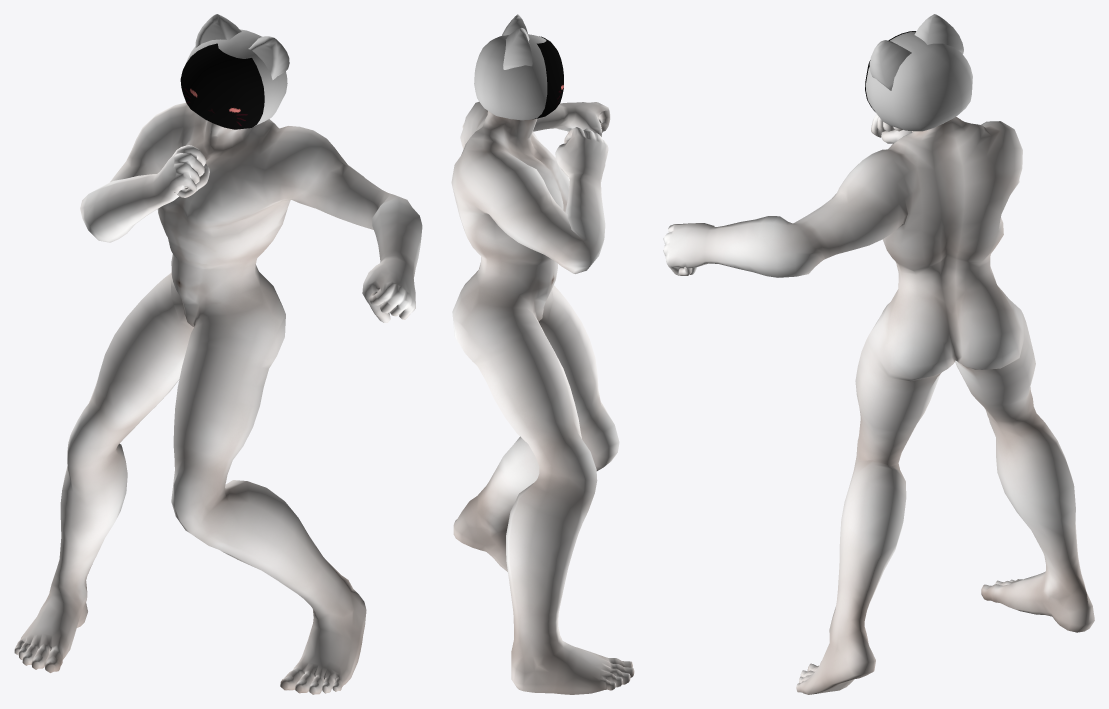
The picture shows the model from 3 angles, left to right: view 1: azimuth 30°, elevation 25°; view 2: azimuth 150°, elevation 25°; view 3: azimuth 270°, elevation 25°; orthographic projection. The views are drawn at different scales.
Visible parts, largest first — view 1: Muscle_Body, ______?001, Cat_Head; view 2: Muscle_Body, Cat_Head, ______?001; view 3: Muscle_Body, Cat_Head.
Boxes of the visible parts, x1,y1,x2,y2 form: Muscle_Body: (14,102,422,694); ______?001: (180,43,264,129); Cat_Head: (186,14,289,126); Muscle_Body: (451,102,634,694); Cat_Head: (474,14,547,120); ______?001: (533,36,563,119); Muscle_Body: (663,114,1094,694); Cat_Head: (866,14,972,131).
Size of the model in its own units: 12.82 by 27.79 by 16.63.
